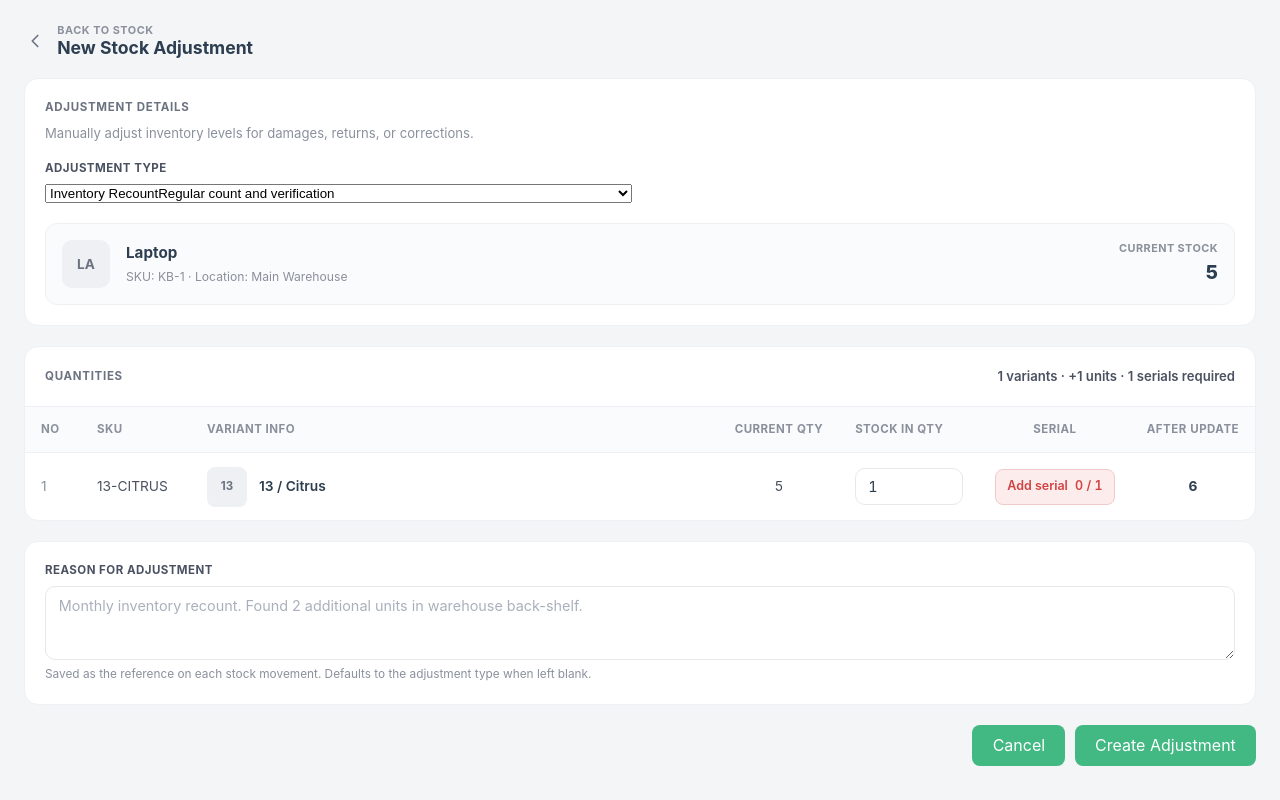
Test case: StockAdjustmentFormView variant serials › asks for one serial per unit when several units come in
Replace the text in the number field named "Quantity change for 13 / Citrus" with "4" at [909, 486], box x1=855 y1=468 x2=963 y2=505
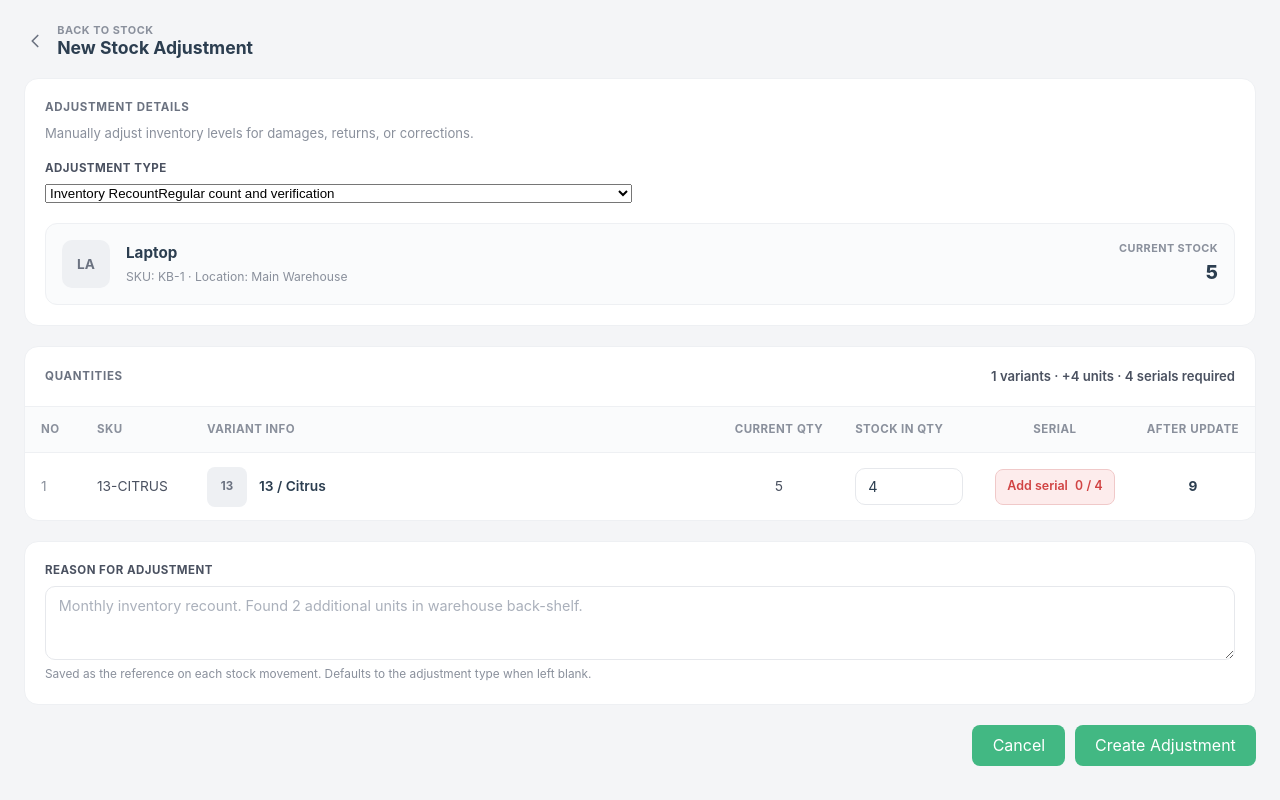
Now the text with class "serial-trigger__count" reads "0 / 4", box x1=1075 y1=478 x2=1103 y2=493
